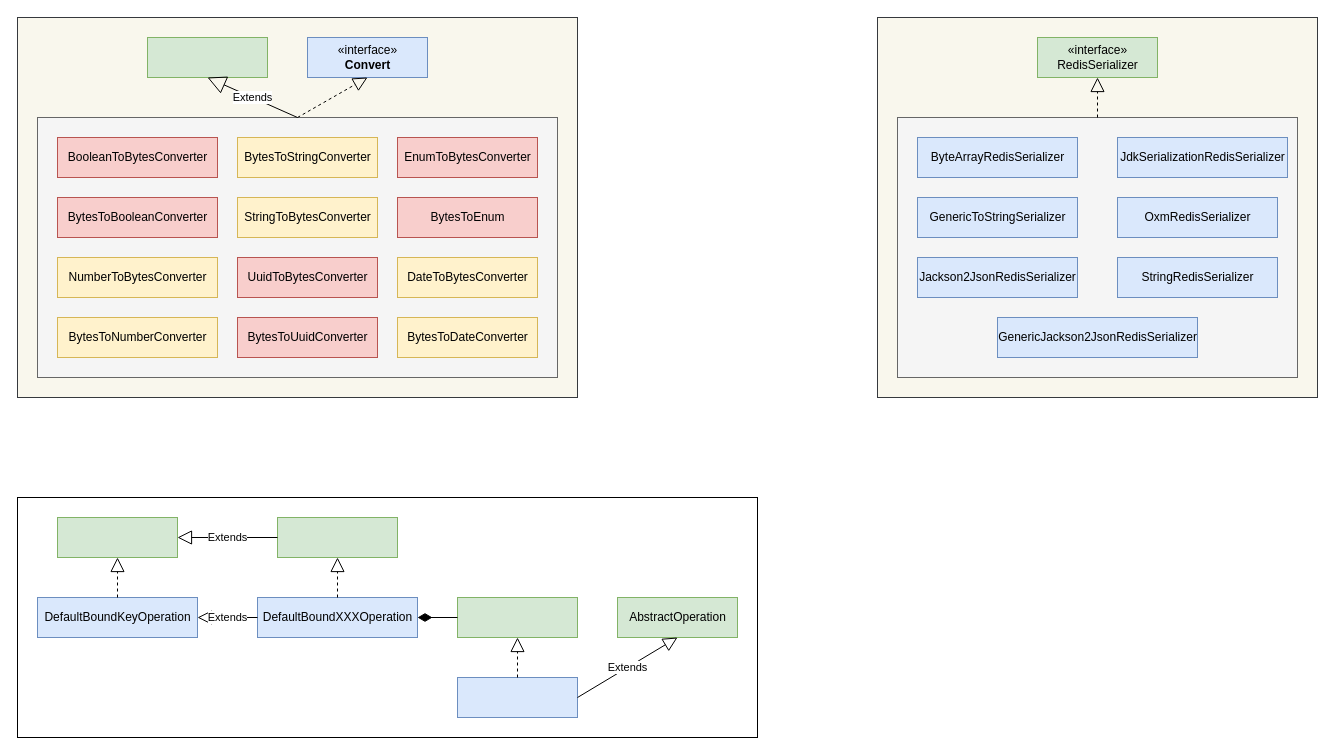
The diagram is 1335 pixels wide and 755 high, and some of its shapes have lost their labels. Each missing label, with the box of its shape:
DefaultXXXOperation: (456, 676, 578, 718)
StringBasedConverter: (146, 36, 268, 78)
«interface» BoundKeyOperation: (56, 516, 178, 558)
«interface» BoundXXXOperation: (276, 516, 398, 558)
«interface» XXXOperation: (456, 596, 578, 638)
